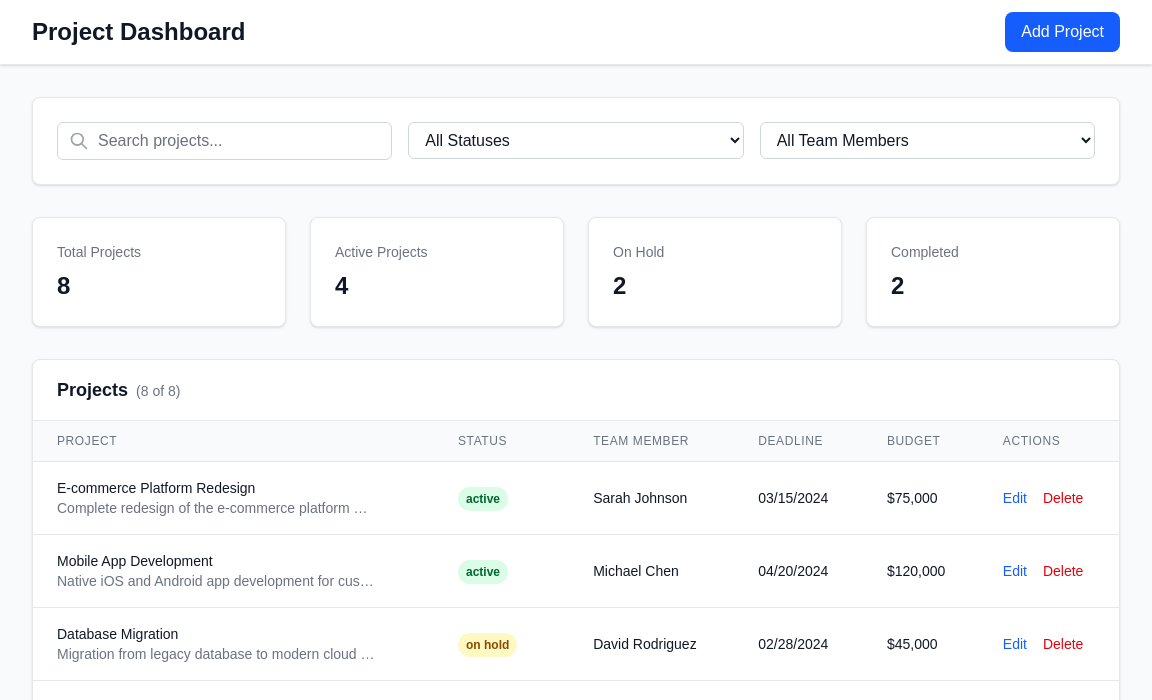
Dashboard Component › Adding New Project › should close modal when Cancel is clicked
Open modal
Step 1. Click the button "Add Project" → (1063, 32), box [1005,12,1120,52]
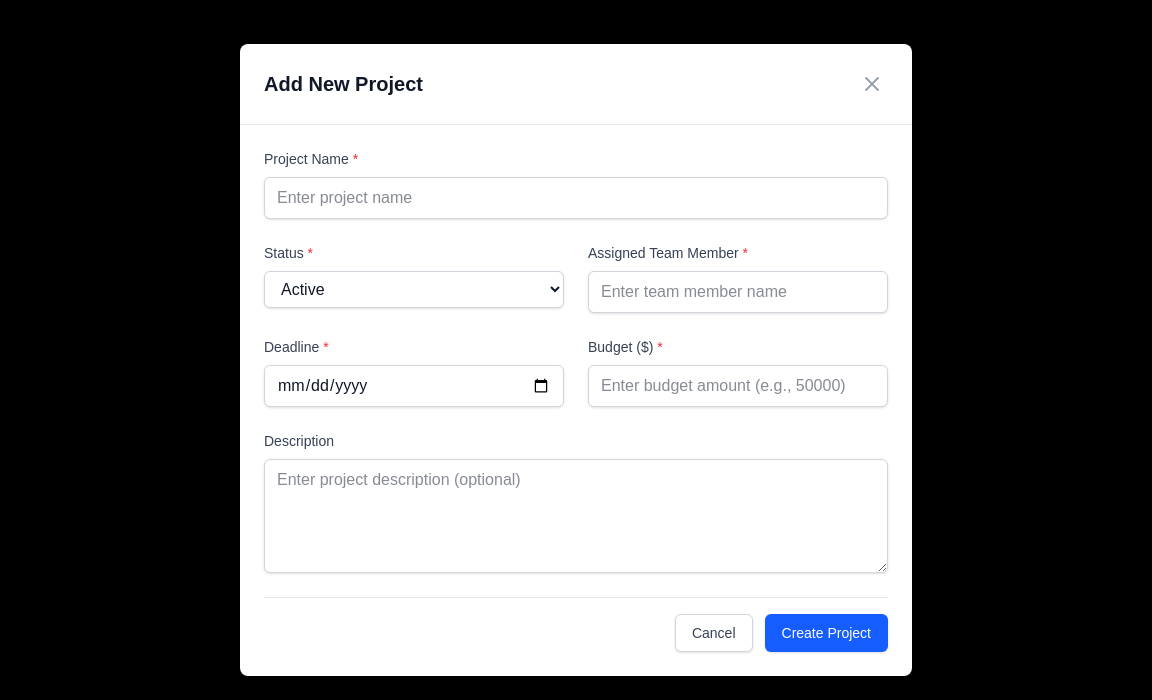
Now the heading "Add New Project" is shown, box [264,70,423,98]
Click Cancel
Step 2. Click the button "Cancel" → (714, 633), box [675,614,752,652]
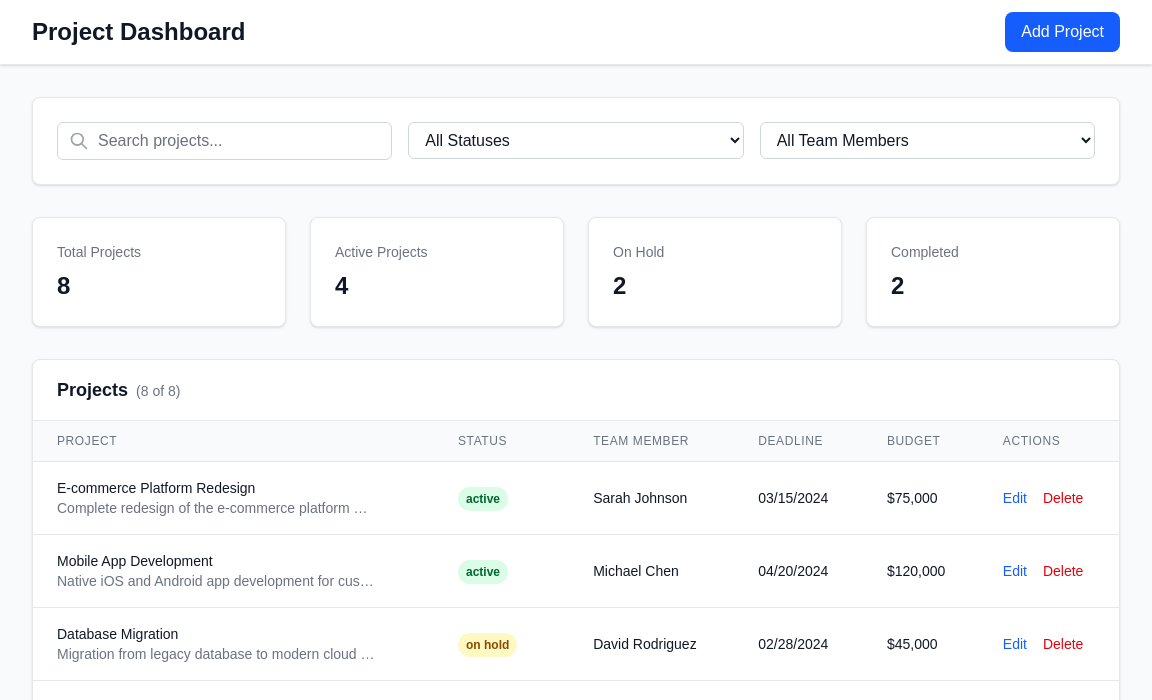
Now the heading "Add New Project" is gone
